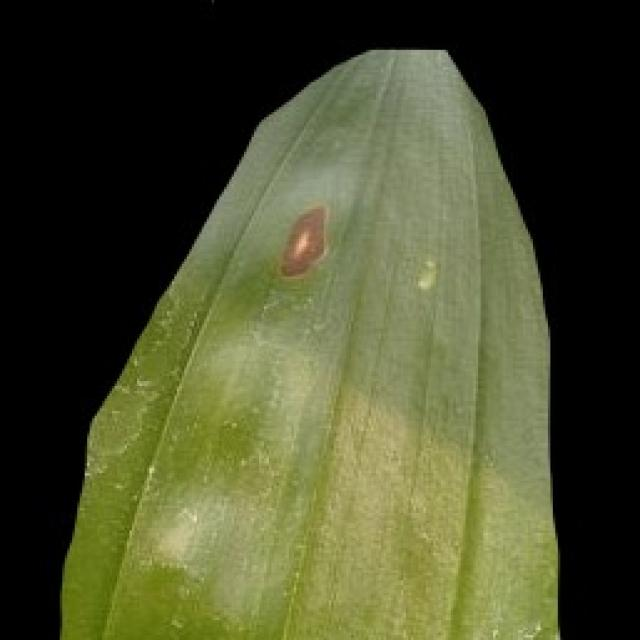mite: (271, 202, 443, 296), (413, 254, 438, 291), (184, 0, 237, 7)
sunburn: (271, 199, 334, 281)
